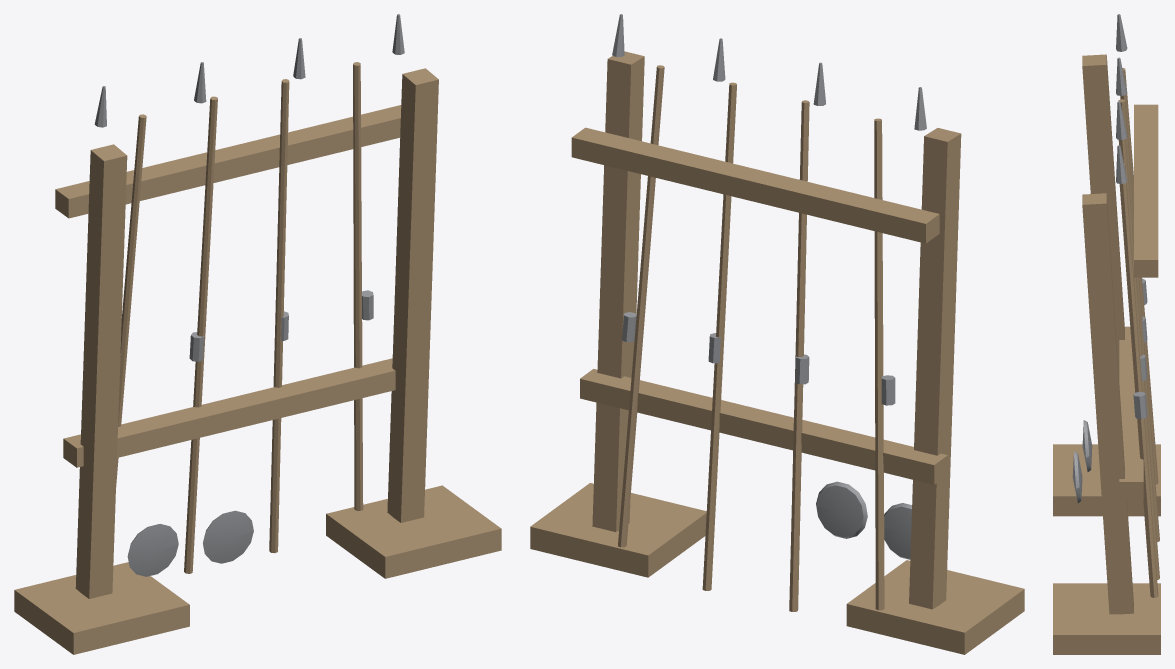
File: roman-bathhouse-and-palaestra-discus-and-javelin-rack-fdeff019__37908.glb
3 renders of one model, left to right at view 1: azimuth 30°, elevation 25°; view 2: azimuth 150°, elevation 25°; view 3: azimuth 270°, elevation 25°, orthographic. The views are drawn at different scales.
Visible parts, largest first — view 1: discus-and-javelin-rack; view 2: discus-and-javelin-rack; view 3: discus-and-javelin-rack.
Part boxes in pixels (x1,y1,x2,y2): discus-and-javelin-rack: [14, 14, 501, 654]; discus-and-javelin-rack: [530, 14, 1024, 654]; discus-and-javelin-rack: [1053, 14, 1160, 654].
Bounding box in the file's own units: 1.84 × 2.16 × 0.4399.
